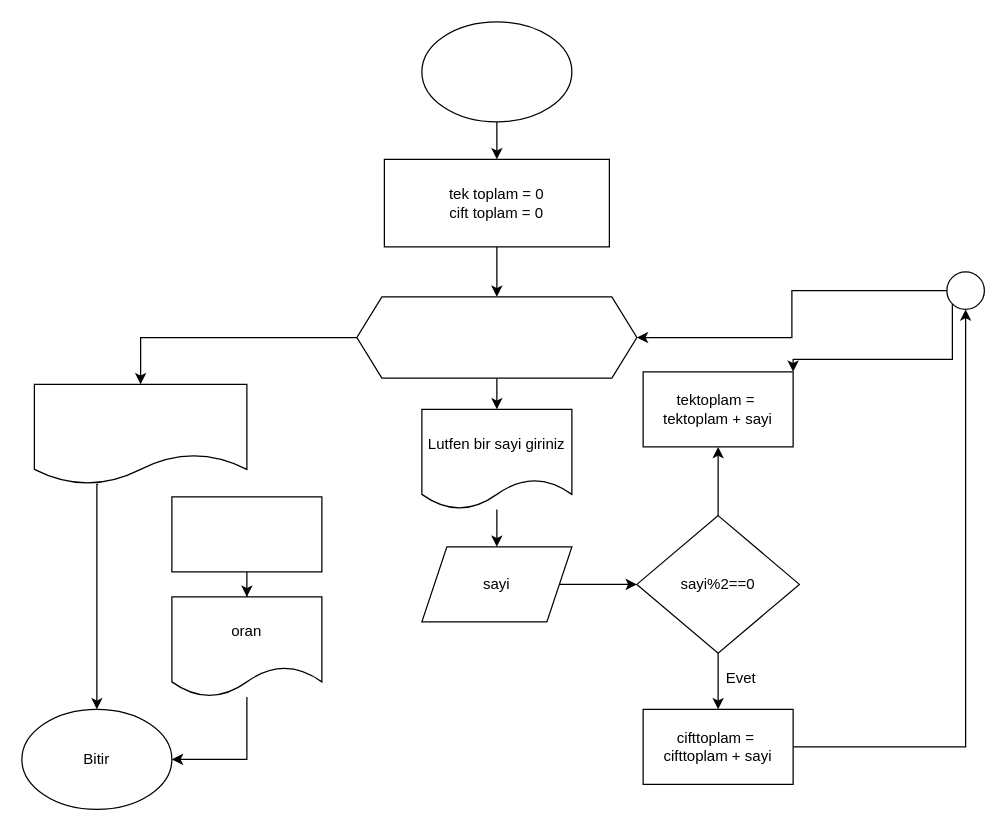
The diagram is 1006 pixels wide and 831 high, and some of its shapes have lost their labels. The shapes that lost their labels are listed below. From the top down, each one's box as (x1, y1, x2, y2) in pixels, then its label:
(421, 21, 572, 122): Basla
(356, 296, 637, 378): i =1; i < 100 ; i++
(33, 383, 247, 484): teksayilarintoplami = tektoplam ciftsayilarintoplami = cifttoplam
(171, 496, 322, 572): oran = cift / tek
